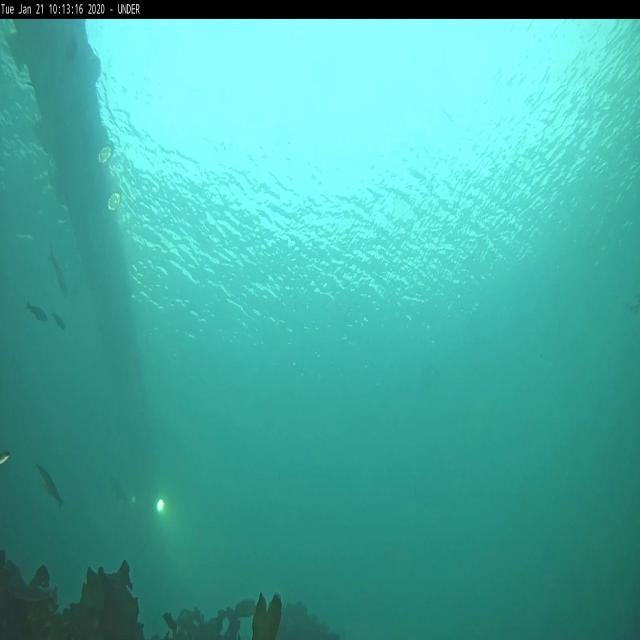fish: (34, 461, 63, 512), (48, 247, 68, 298), (22, 299, 48, 324), (109, 474, 129, 506), (51, 310, 67, 330), (0, 448, 11, 467)
